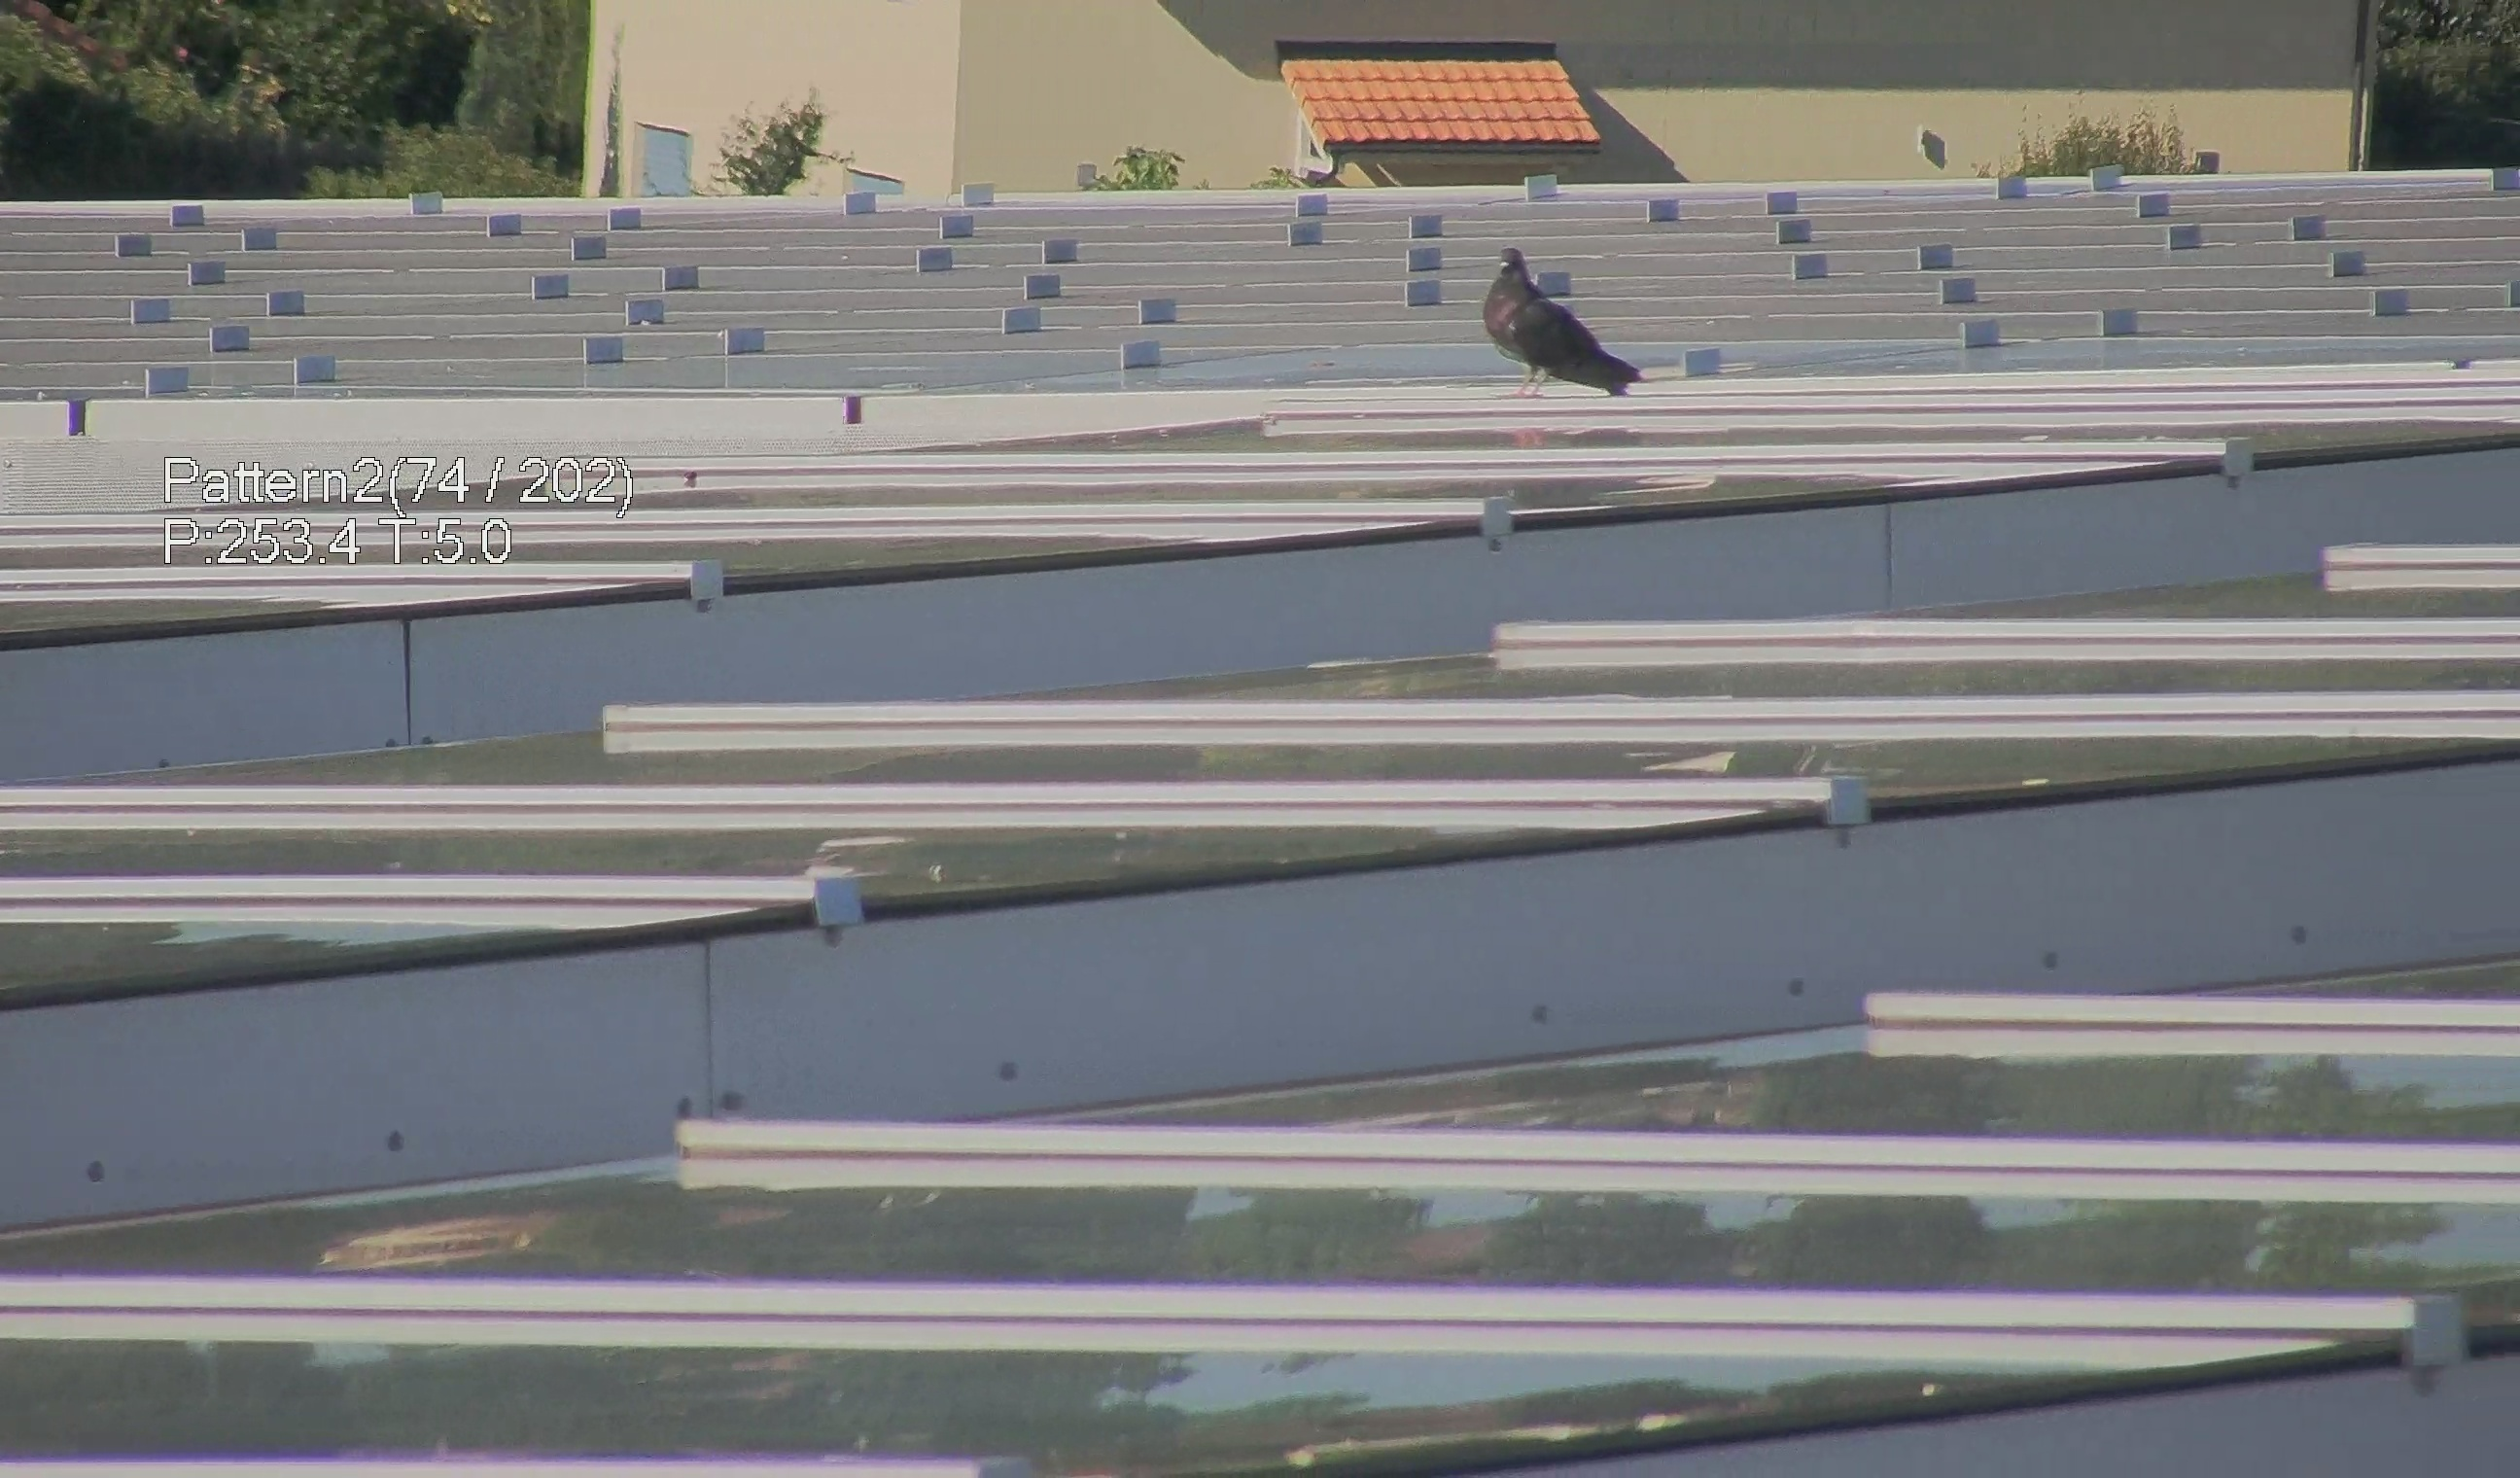Pigeon: (1479, 238, 1650, 401)
